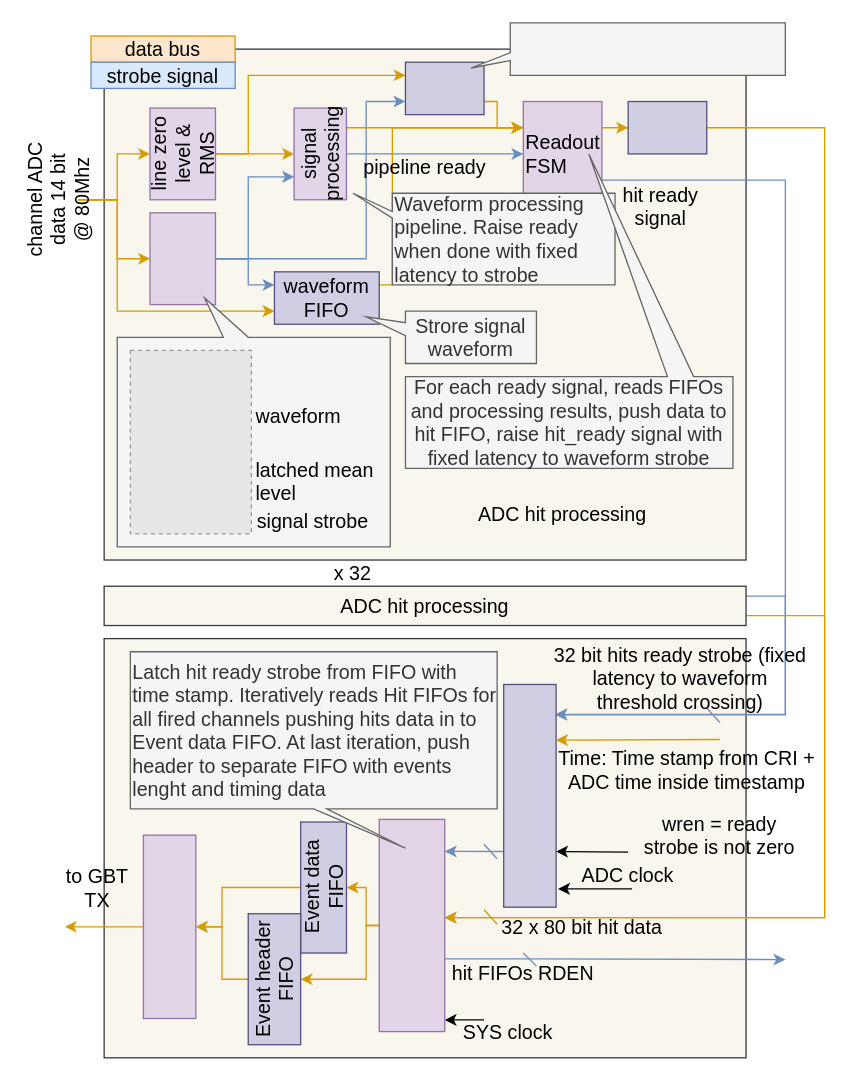
Image size: 858x1081. Some labels were removed from this diagram. Grey dashed boxes stand in for pictures. Here are the shapes that lost their labels. From the top down, the centre of each, then its label:
At point (627, 48): "Store signal data latched at the start of waveform: zero level".
At point (444, 88): "header FIFO".
At point (667, 127): "hit FIFO".
At point (182, 258): "strobe generator".
At point (529, 795): "Hit ready FIFO".
At point (169, 926): "Event builder".
At point (411, 925): "FSM".
